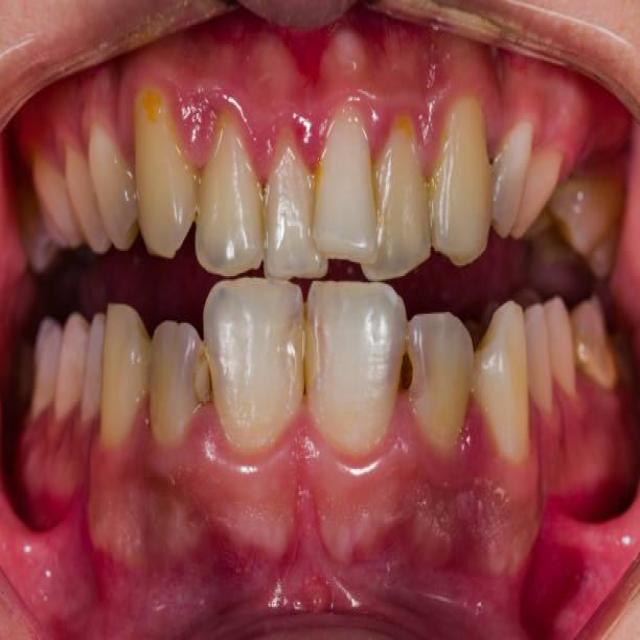caries: (280, 310, 332, 398), (179, 335, 227, 412), (378, 332, 421, 401)
